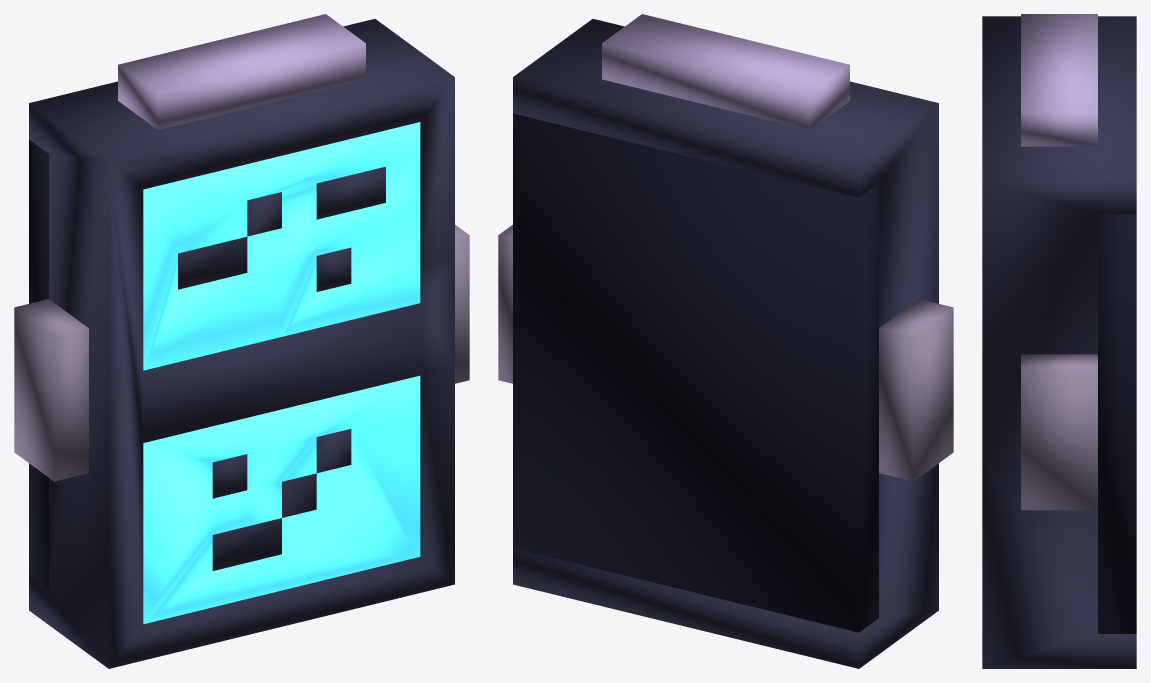
Rendered from shield-pack.lod1.glb.
The picture shows the model from 3 angles, left to right: view 1: azimuth 30°, elevation 25°; view 2: azimuth 150°, elevation 25°; view 3: azimuth 270°, elevation 25°; orthographic projection. The views are drawn at different scales.
Visible parts, largest first — view 1: shield-pack.body; view 2: shield-pack.body; view 3: shield-pack.body.
Boxes of the visible parts, left/top/right/bottom form: shield-pack.body: left=14, top=14, right=469, bottom=668; shield-pack.body: left=498, top=14, right=953, bottom=668; shield-pack.body: left=982, top=14, right=1136, bottom=668.
Bounding box in the file's own units: 0.375 × 0.4688 × 0.125.
